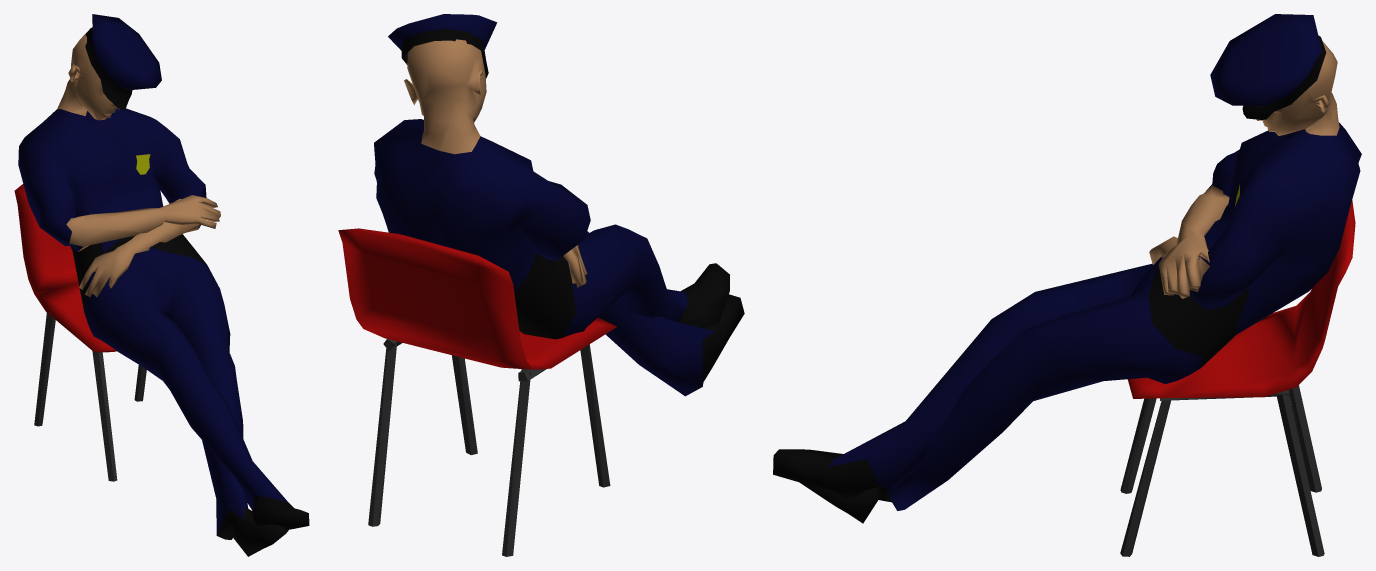
The model's file is cop.obj.
3 views of the same model, side by side, from view 1: azimuth 30°, elevation 25°; view 2: azimuth 150°, elevation 25°; view 3: azimuth 270°, elevation 25° (orthographic). The views are drawn at different scales.
Visible parts, largest first — view 1: Plane.002_Plane.003; view 2: Plane.002_Plane.003; view 3: Plane.002_Plane.003.
Boxes of the visible parts, box(x1,y1,x2,y2) form: Plane.002_Plane.003: box(14, 14, 309, 556); Plane.002_Plane.003: box(338, 14, 744, 556); Plane.002_Plane.003: box(773, 14, 1361, 556).
Bounding box in the file's own units: 1.83 × 4.4 × 4.52.
